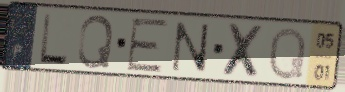E: (124, 17, 172, 74)
L: (37, 11, 71, 67)
N: (170, 19, 211, 75)
Q: (266, 24, 309, 82), (75, 13, 116, 71)
X: (220, 20, 268, 81)
